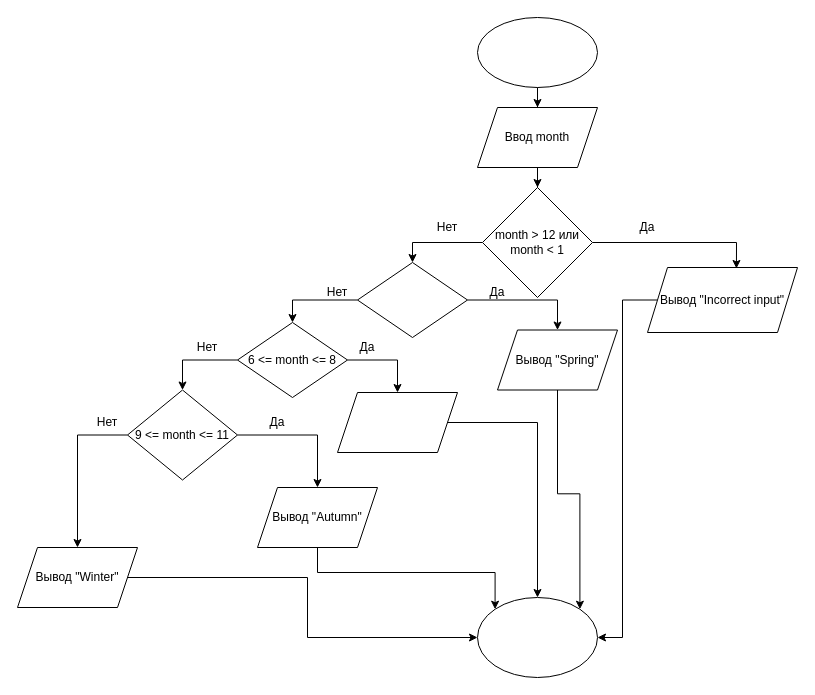
Image size: 815x695. Some labels were removed from this diagram. The centre of each missing label's shape, as x and y in pixels:
3 <= month <= 5: point (412, 300)
Вывод "Summer": point (397, 422)
Конец: point (537, 637)
Начало: point (537, 52)
